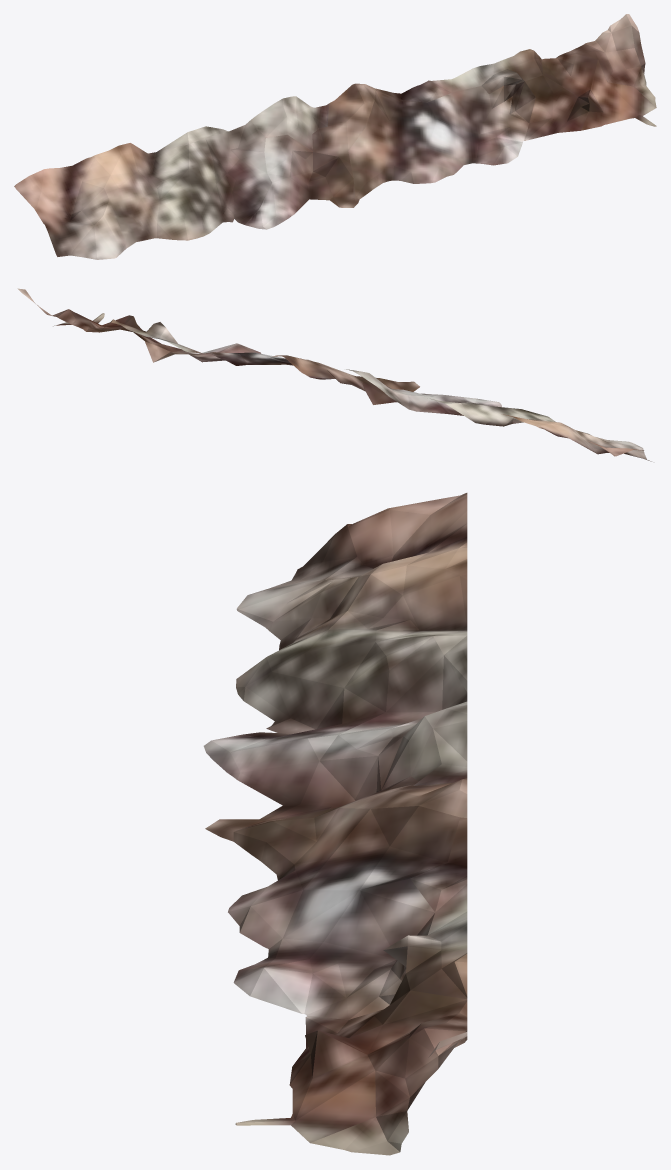
3 views of the same model, one above another, from view 1: azimuth 30°, elevation 25°; view 2: azimuth 150°, elevation 25°; view 3: azimuth 270°, elevation 25° (orthographic). The views are drawn at different scales.
Size of the model in its own units: 1.67 by 0.1609 by 0.3185.
Materials: 1 (1 with a texture image).
